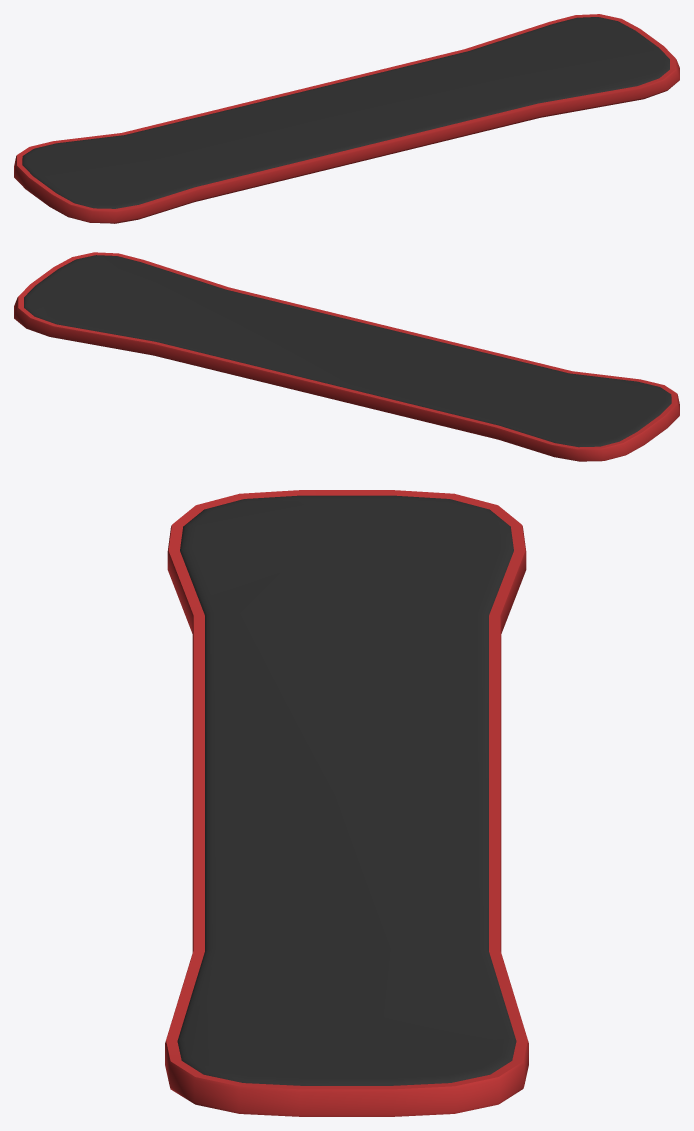
Rendered from HoverBoard.FBX.
3 renders of one model, top to bottom at view 1: azimuth 30°, elevation 25°; view 2: azimuth 150°, elevation 25°; view 3: azimuth 270°, elevation 25°, orthographic. The views are drawn at different scales.
Visible parts, largest first — view 1: Box001, HoverBoardShine; view 2: Box001, HoverBoardShine; view 3: Box001, HoverBoardShine.
Part boxes in pixels (x1,y1,x2,y2): Box001: (22, 17, 669, 208); HoverBoardShine: (14, 14, 679, 223); Box001: (24, 255, 671, 447); HoverBoardShine: (14, 252, 679, 461); Box001: (177, 495, 516, 1085); HoverBoardShine: (165, 490, 528, 1116).
Size of the model in its own units: 294 by 8.35 by 74.97.
